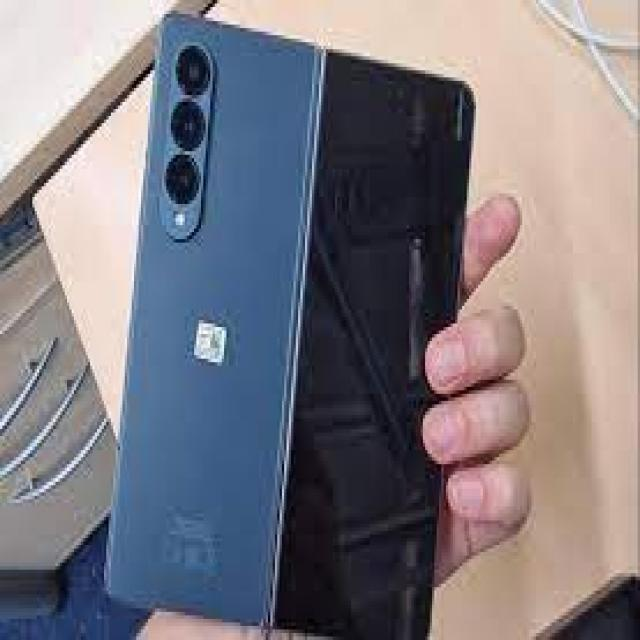lens: (158, 41, 219, 238)
phone: (109, 14, 470, 635)
